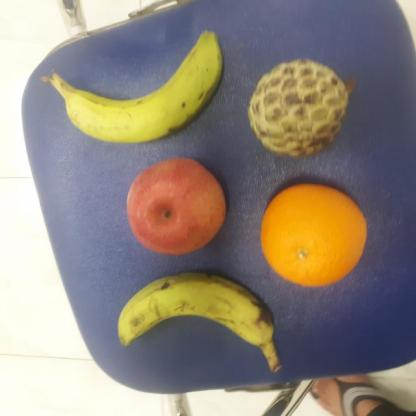annona: (249, 56, 352, 161)
apple: (124, 154, 228, 256)
banana: (40, 30, 224, 146), (112, 269, 278, 366)
orange: (257, 181, 370, 290)
